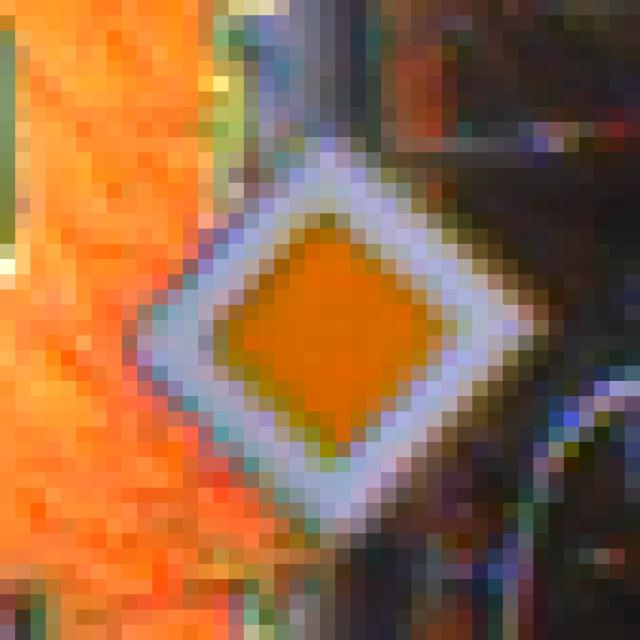Main Road: (77, 77, 565, 565)
